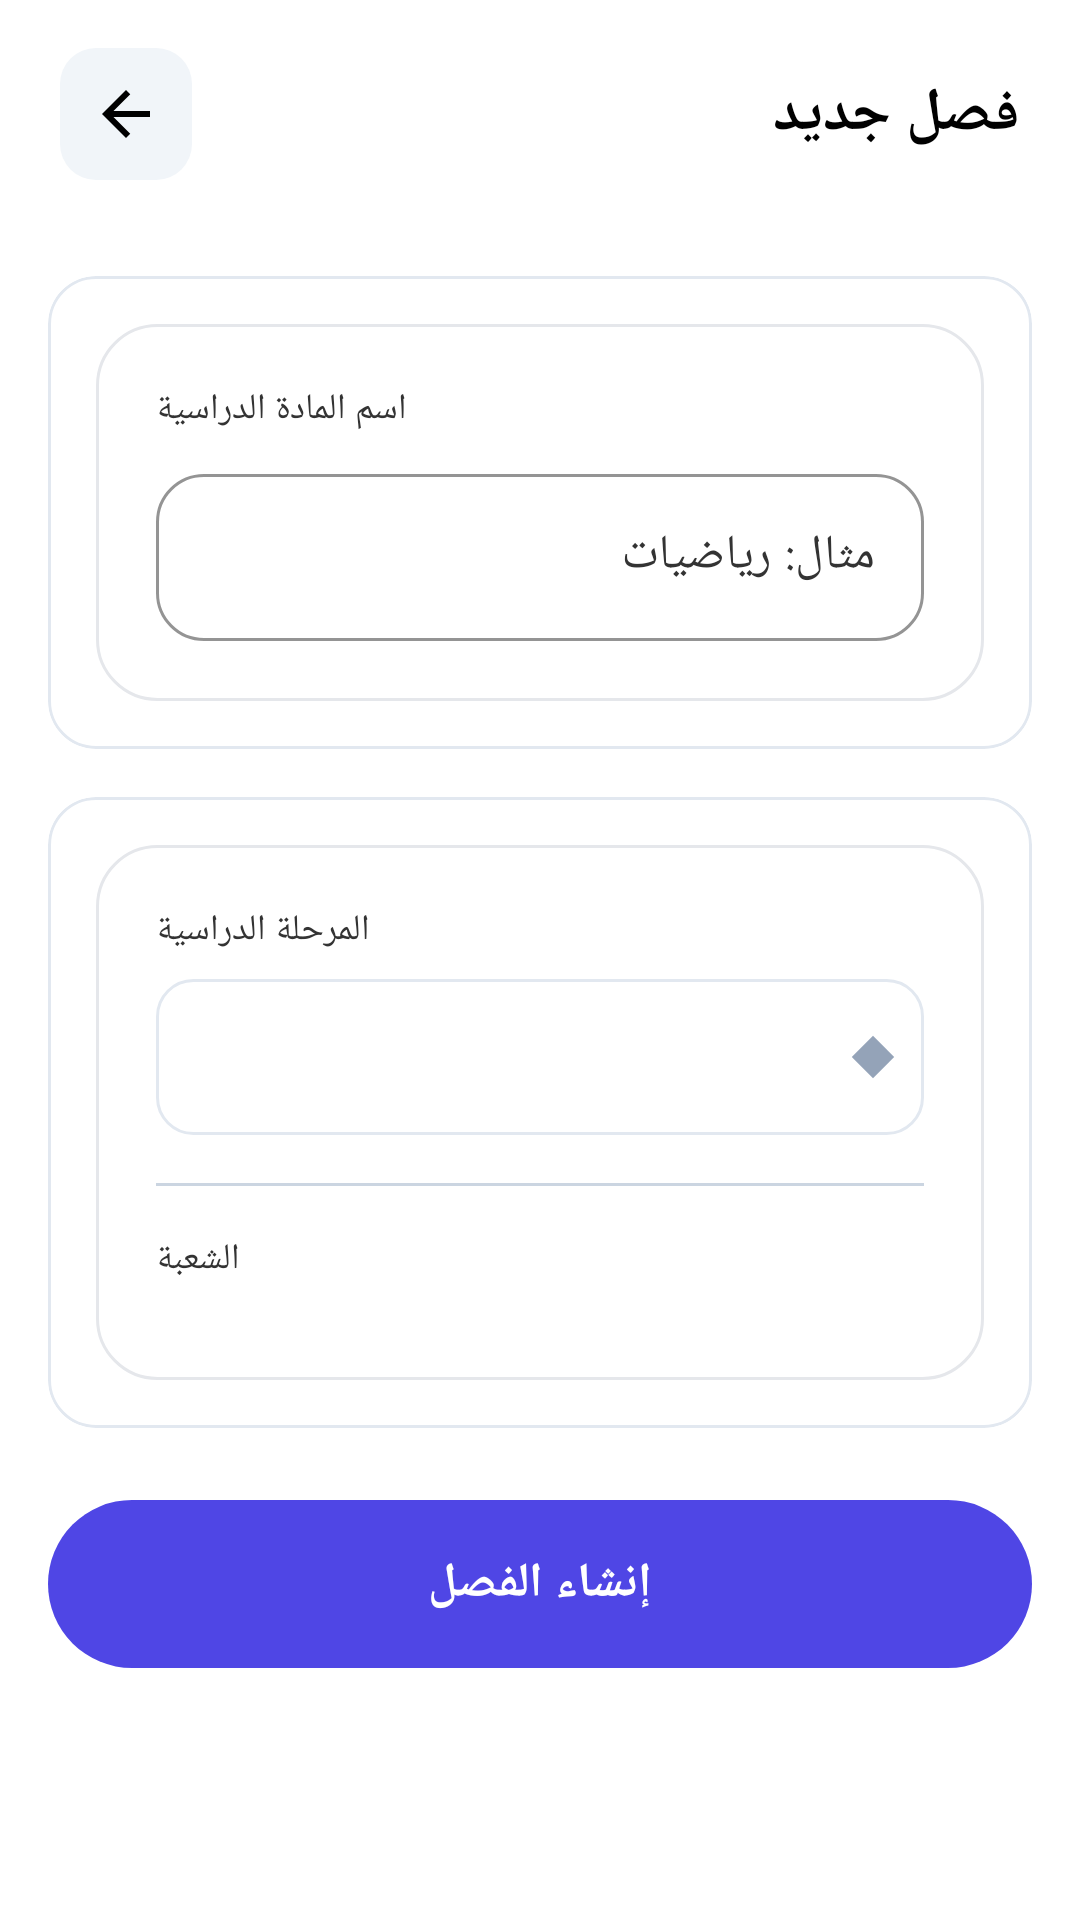

Screen size 1080x1920. Icon name, then its center in pixels as [x,y]:
arrow back: [126,114]
